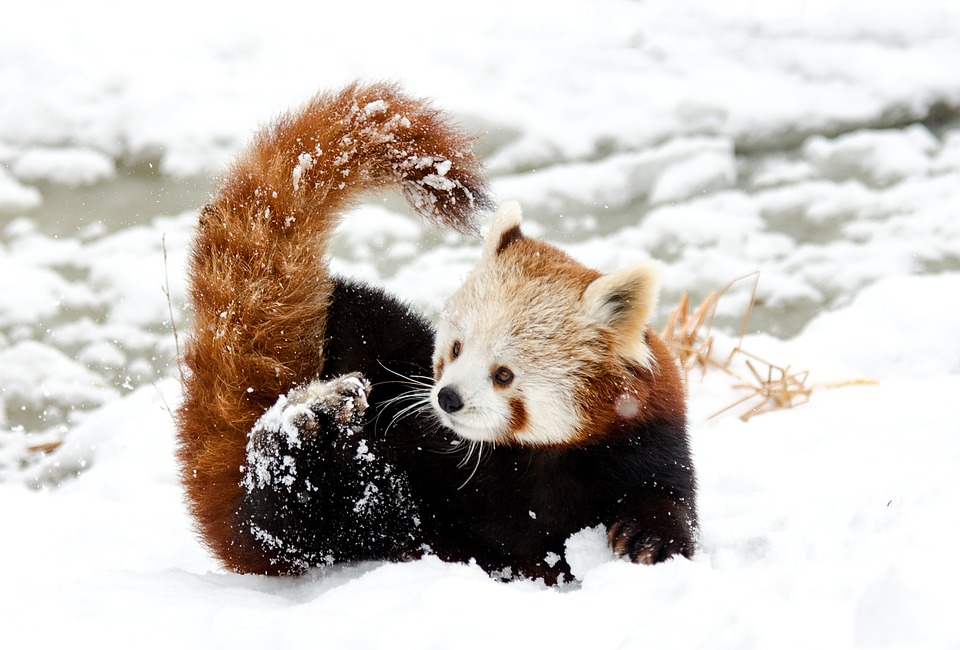red_panda: (184, 83, 705, 590)
